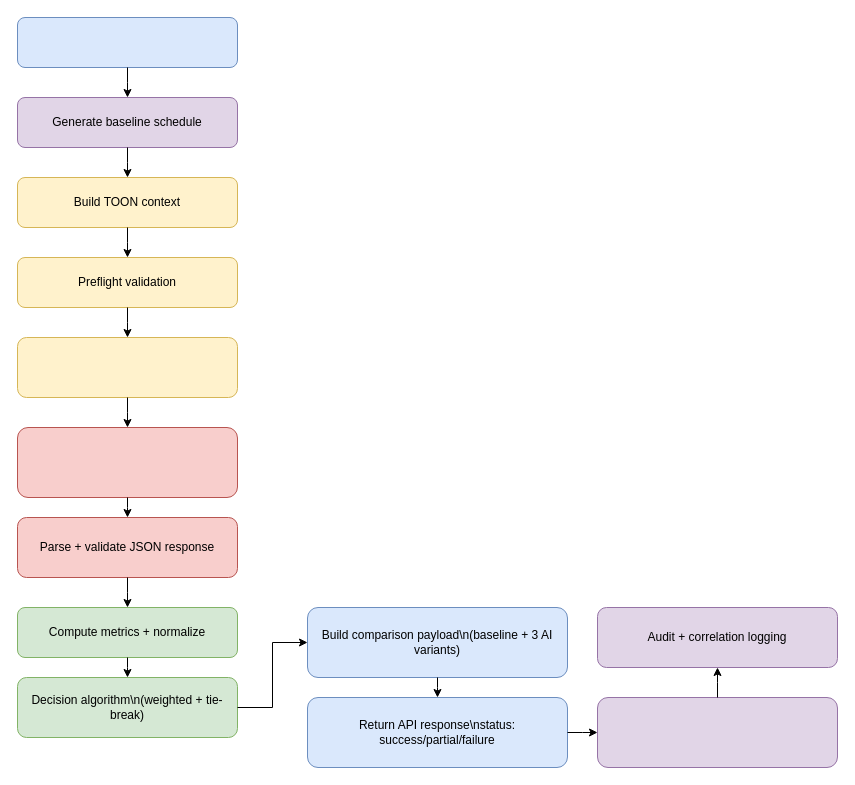
This 855x785 diagram has some shape labels left out. The centre of each missing label's shape, as x and y in pixels:
AI Broker call (Gemma/Llama-70B)\nTimeouts + Retries: the point at 127,462
Planner selects schedule\nPersist selected only: the point at 717,732
Planner triggers generation: the point at 127,42
Serialize TOON + GDPR checks: the point at 127,367
